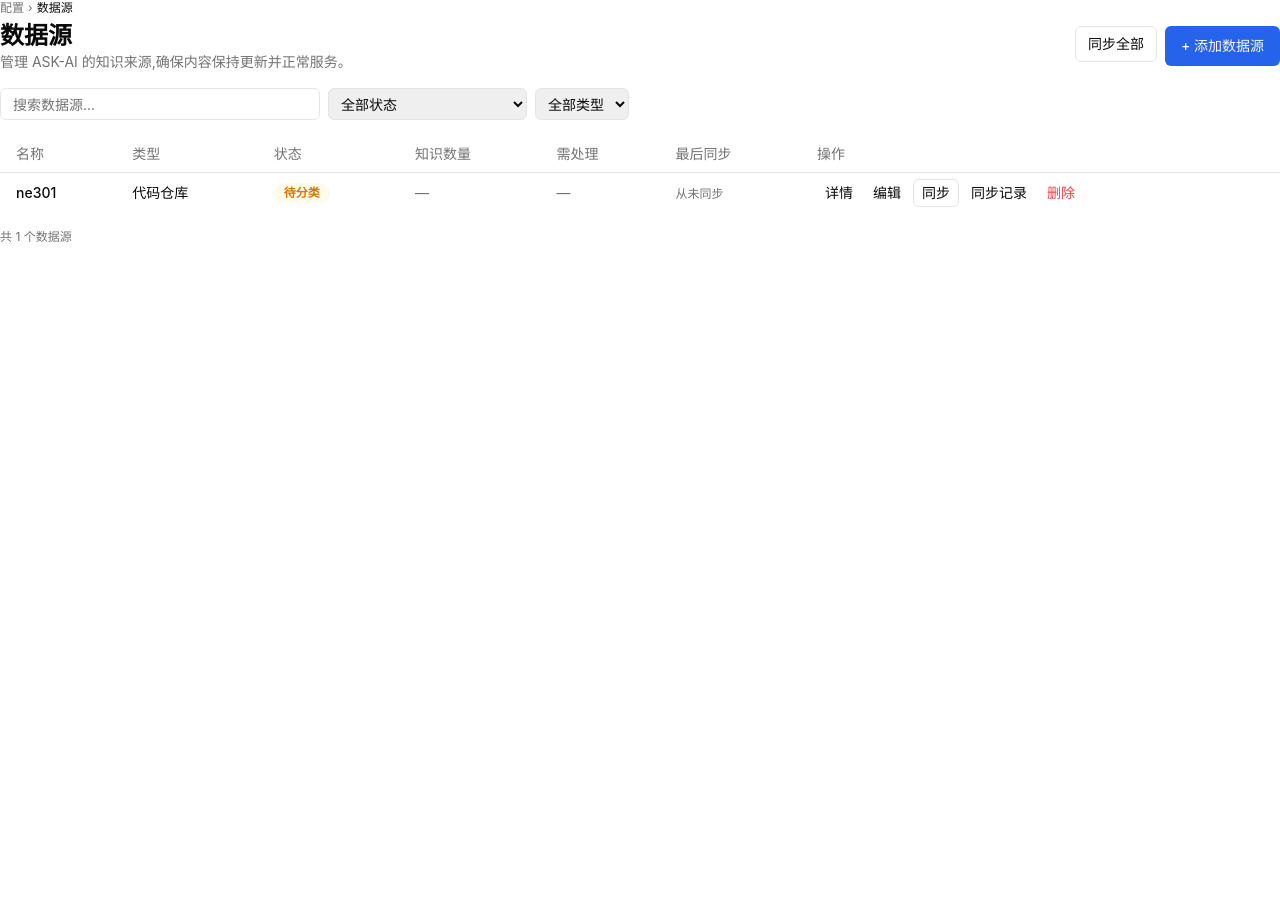
DataSources › #1 编辑 local_git 源:类型归一为 github 且 repo_path 转换为 repo_url+clone_path
This screenshot has width=1280, height=900.
What coordinates should you click on to do the following:
click the button "编辑"
I would click on:
 (887, 192)
Its box is [865,178,909,206].
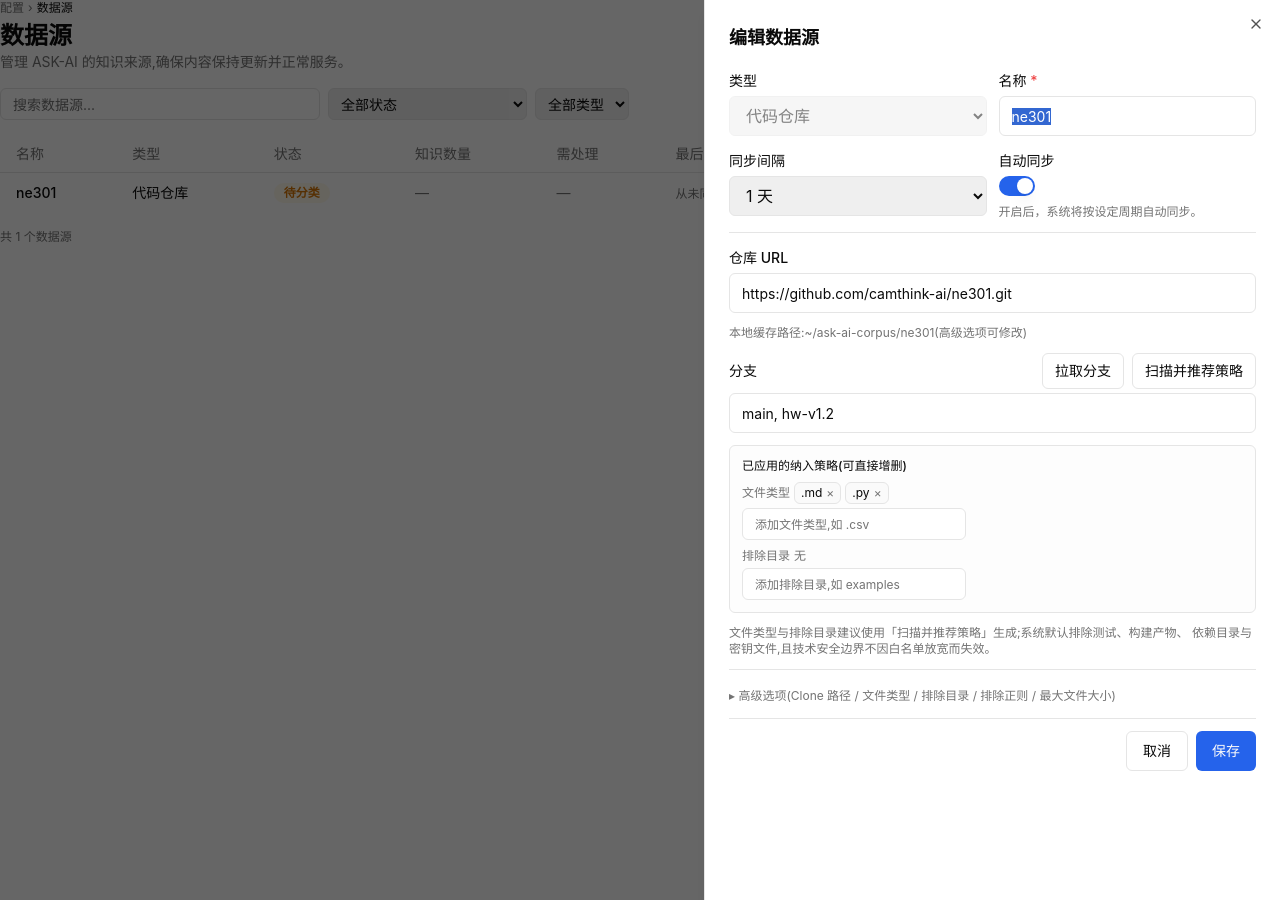
Result: the dropdown showing "代码仓库" shows "代码仓库" at [729,96,986,136]
Result: the field showing "https://github.com/camthink-ai/ne301.git" below "仓库 URL" is shown at [729,273,1256,313]
Result: the 2nd field showing "main, hw-v1.2" is shown at [729,393,1256,433]
